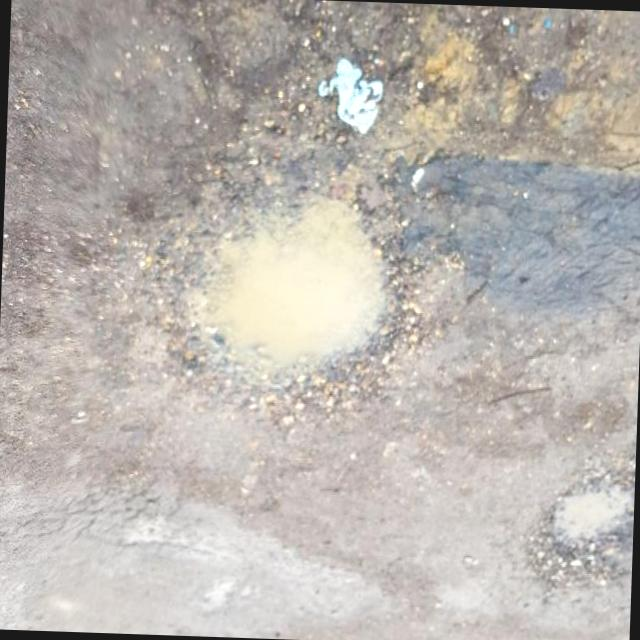pothole: (158, 162, 417, 438), (518, 471, 634, 617)
